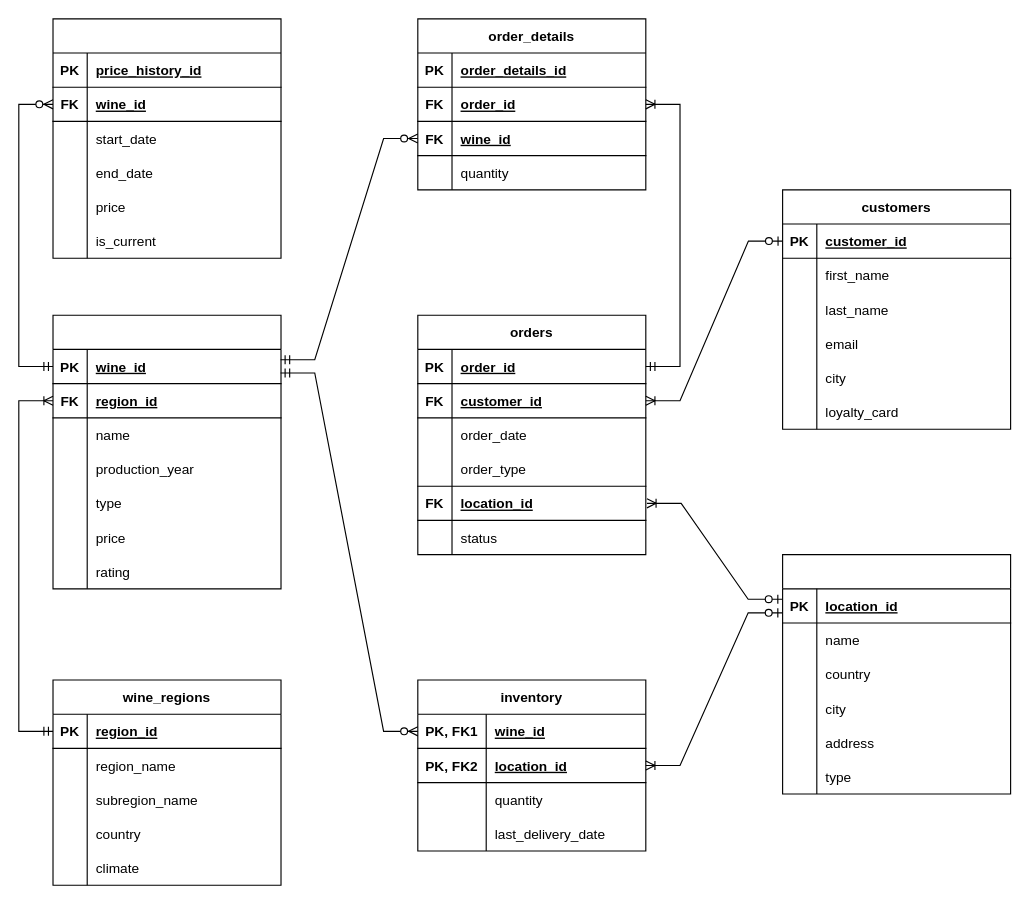
The diagram is 1029 pixels wide and 904 high, and some of its shapes have lost their labels. The shapes that lost their labels are listed below. From the top down, each one's box as (x1, y1, x2, y2) in pixels, then its label:
(52, 18, 281, 258): wine_price_history
(52, 314, 281, 589): wines
(781, 553, 1011, 794): locations
